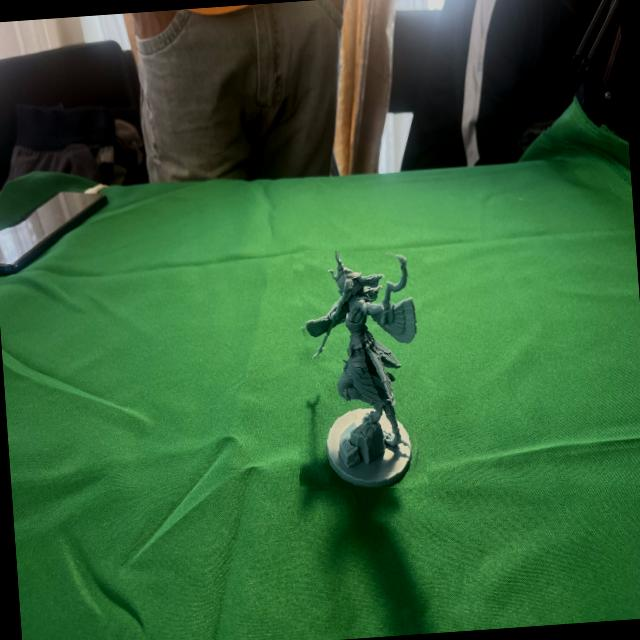isis: (287, 245, 433, 494)
